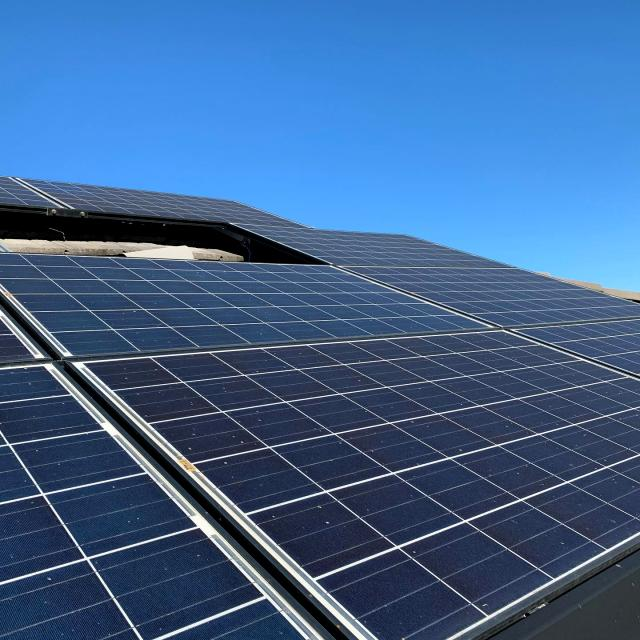dust: (245, 354, 544, 502), (0, 466, 142, 624)
